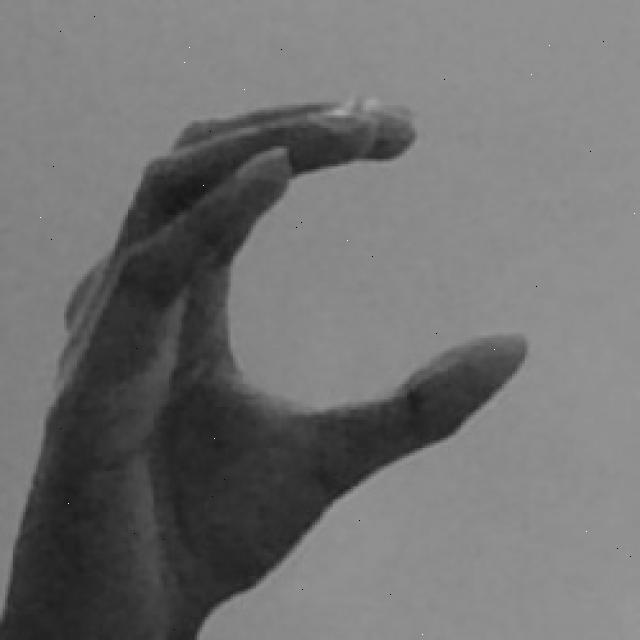C: (8, 92, 529, 640)
